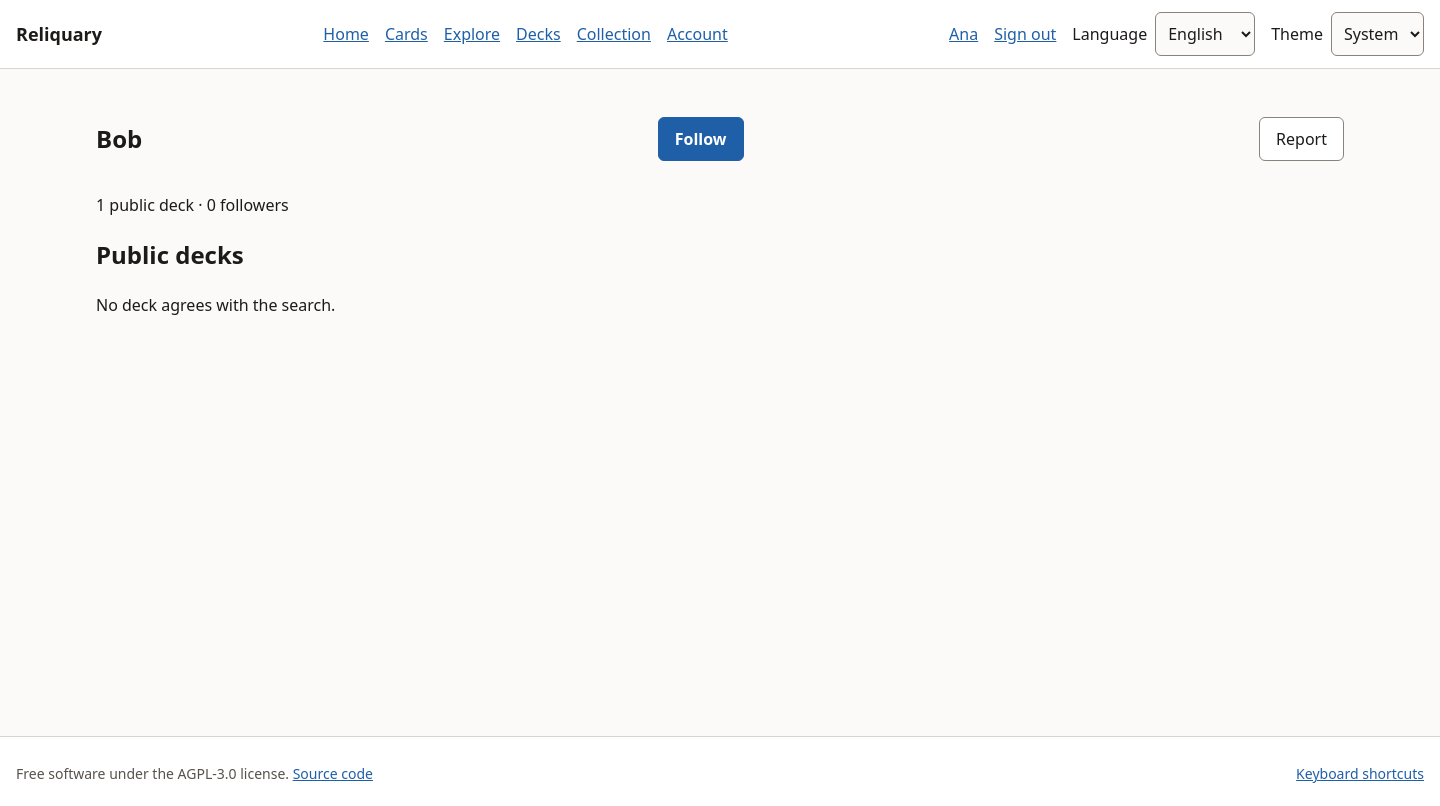
report dialog › sends the reason and the comment of a report
This screenshot has width=1440, height=806.
Click the button "Report": point(1302, 139) x1=1259 y1=117 x2=1344 y2=161
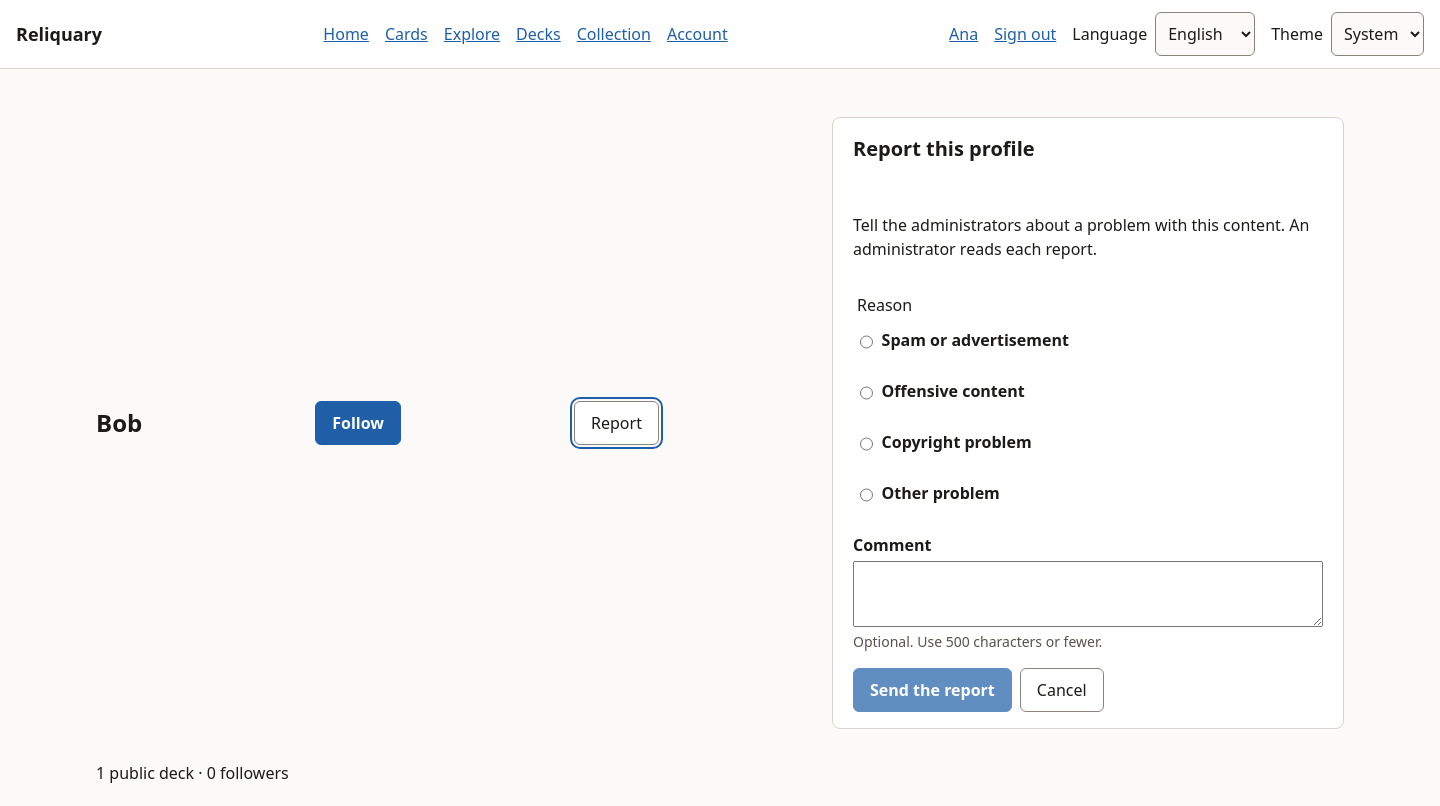
Result: the button "Send the report" is disabled at x1=853 y1=668 x2=1012 y2=712
Click the radio button labelled "Spam or advertisement": point(866, 342) x1=860 y1=320 x2=873 y2=364
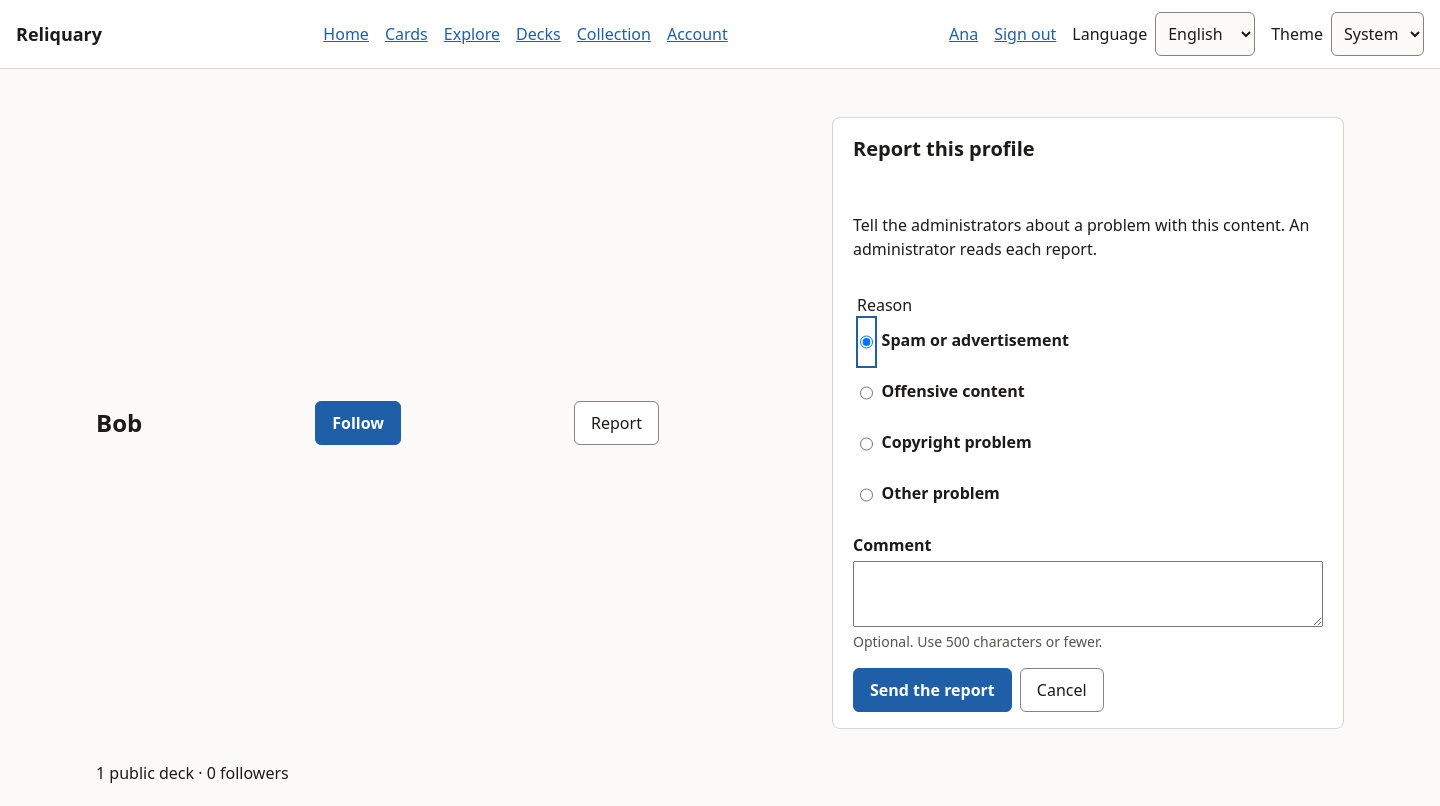
In the text box labelled "Comment": point(1088, 594) x1=853 y1=561 x2=1323 y2=627, type "  Links to a shop.  "
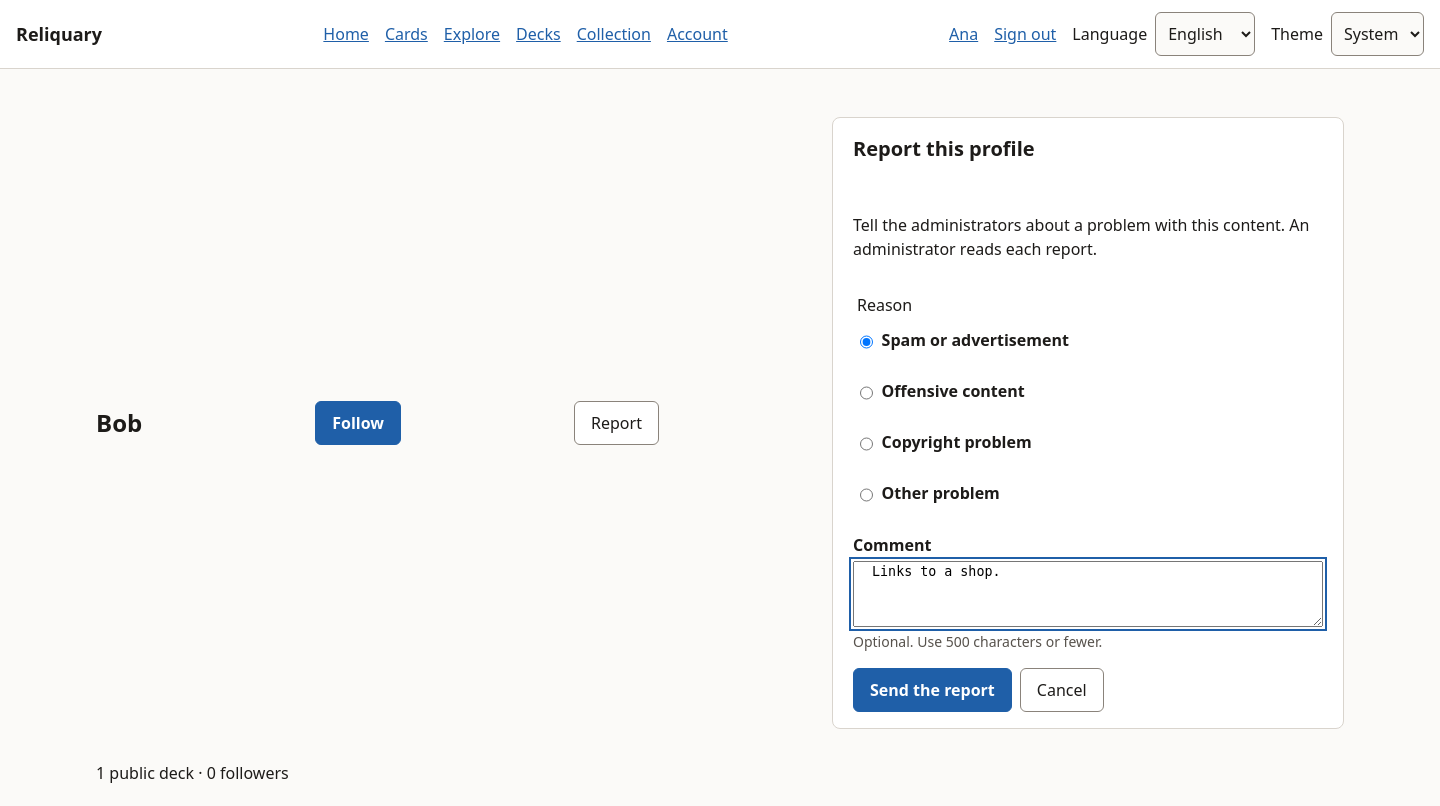
Click the button "Send the report": point(932, 690) x1=853 y1=668 x2=1012 y2=712
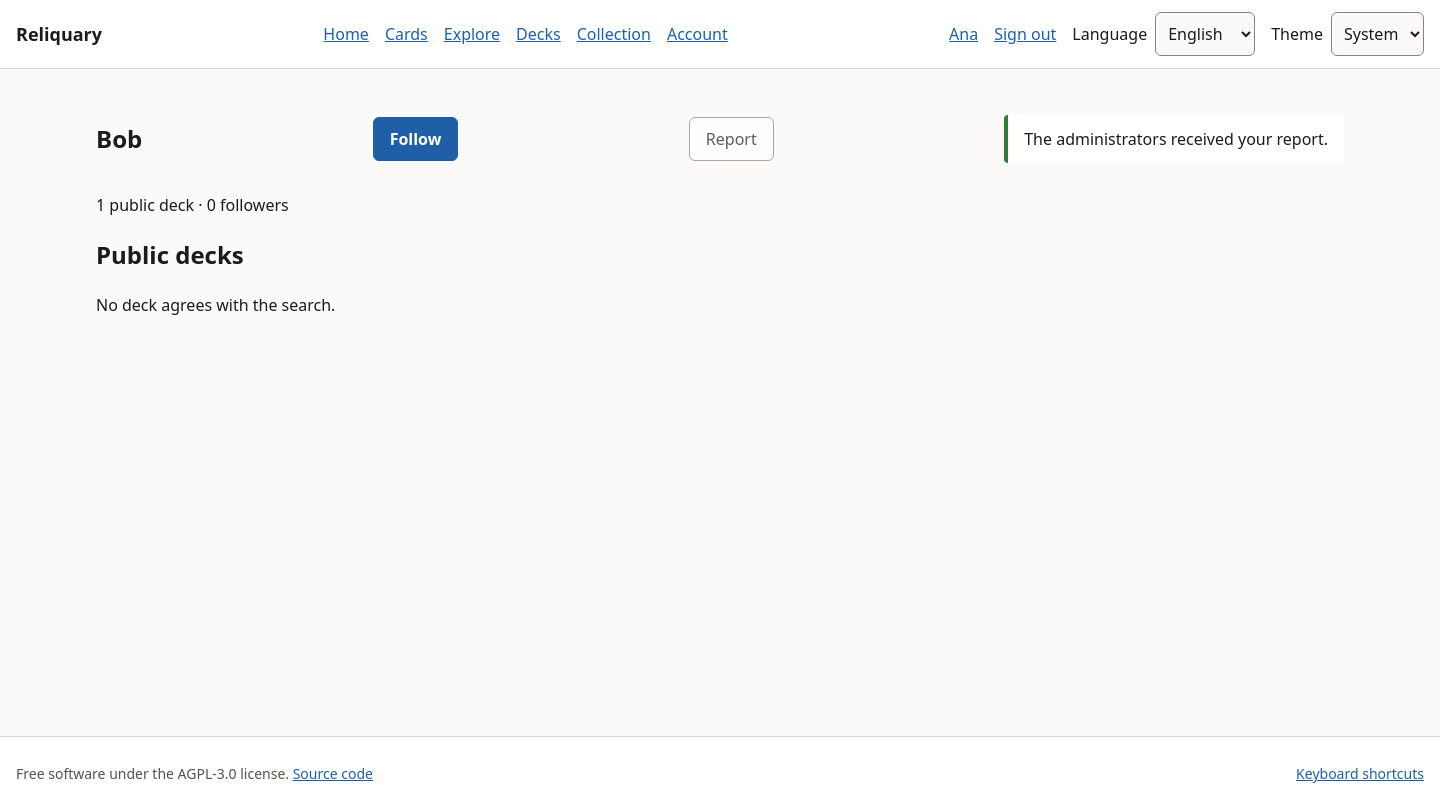
Result: the text "The administrators received your report." is shown at x1=1004 y1=115 x2=1344 y2=163
Result: the dialog is gone
Result: the button "Report" is disabled at x1=689 y1=117 x2=774 y2=161
